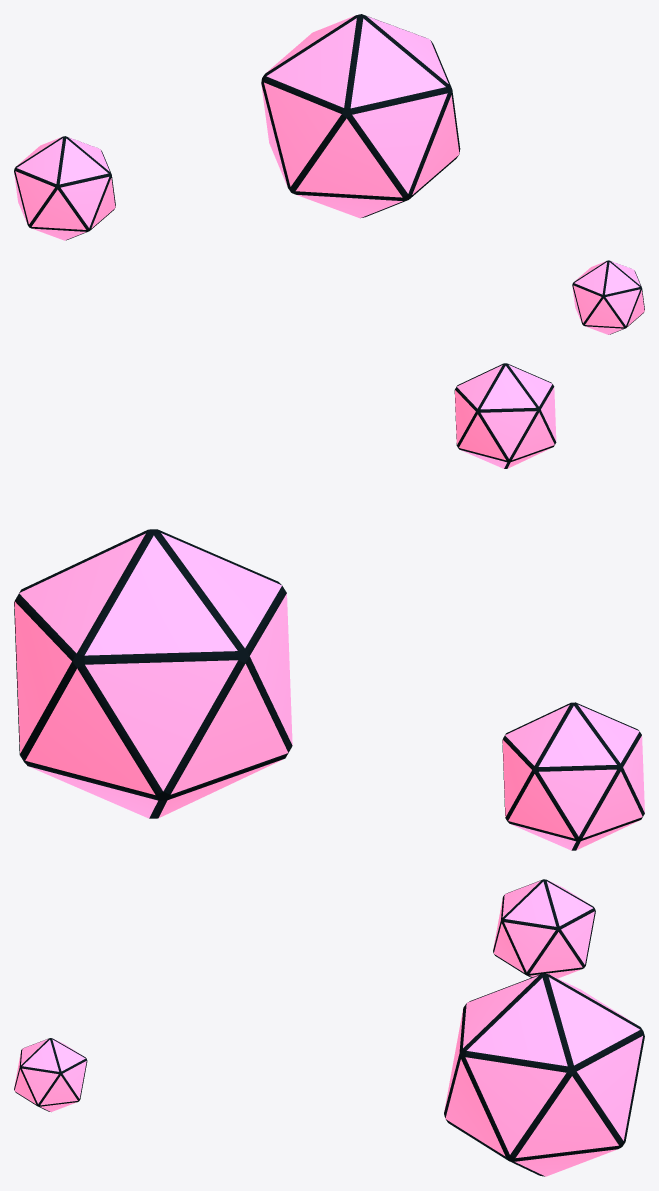
File: prop_environment_02.fbx
3 views of the same model, one above another, from view 1: azimuth 30°, elevation 25°; view 2: azimuth 150°, elevation 25°; view 3: azimuth 270°, elevation 25° (orthographic). The views are drawn at different scales.
Parts seen in each view (by area): view 1: prop_environment_02; view 2: prop_environment_02; view 3: prop_environment_02.
Boxes of the visible parts, box(x1,y1,x2,y2) form: prop_environment_02: box(14, 14, 644, 334); prop_environment_02: box(14, 363, 644, 850); prop_environment_02: box(14, 879, 644, 1176).
Bounding box in the file's own units: 669 × 302 × 868.
